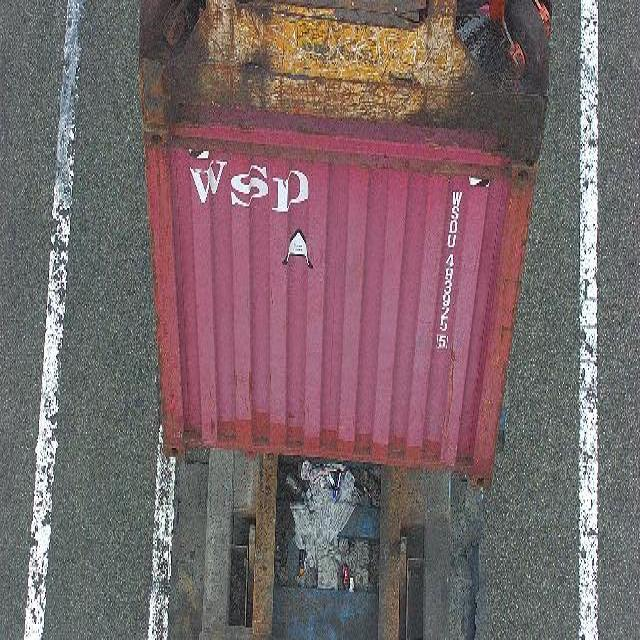container_number: (432, 175, 464, 368)
